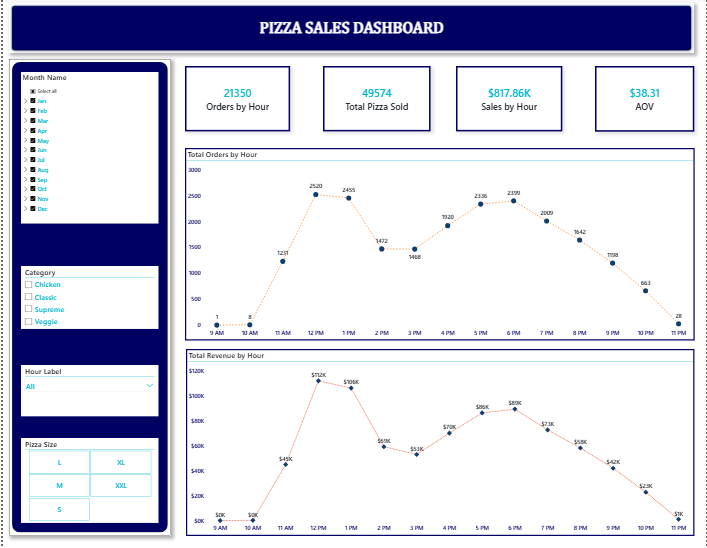

This screenshot's page, from the dashboard's own definition file:
{"tool":"powerbi","page":{"name":"Hourly Sales Analysis","canvas":[2300,1800],"ordinal":1},"visuals":[{"type":"shape","box":[20,200,530,1560],"z":0},{"type":"listSlicer","fields":{"Values":["Dim_Date.Month Name","Dim_Date.Date"]},"box":[60,242,450,496],"z":1000},{"type":"slicer","fields":{"Values":["Dimpizza_Details.Category"]},"box":[60,876,450,206],"z":2000},{"type":"slicer","fields":{"Values":["Dim_orders.Hour Label"]},"box":[60,1200,450,167.5],"z":3000},{"type":"cardVisual","fields":{"Data":["_Time Series Analysis.Orders in Hour"]},"box":[595,222.5,344,214],"z":4000},{"type":"cardVisual","fields":{"Data":["_Time Series Analysis.Sales by Hour"]},"box":[1482.5,222.5,348,214],"z":5000},{"type":"cardVisual","fields":{"Data":["_Measures.Total Pizza Sold"]},"box":[1047.5,222.5,352,214],"z":6000},{"type":"lineChart","title":"Total Orders by Hour","fields":{"Category":["Dim_orders.Hour Label"],"Y":["_Measures.Total Orders"]},"box":[595,490,1667.5,630],"z":7000},{"type":"slicer","fields":{"Values":["Dim_pizzas.Size"]},"box":[60,1440,450,278],"z":8000},{"type":"lineChart","title":"Total Revenue by Hour ","fields":{"Category":["Dim_orders.Hour Label"],"Y":["_Measures.Total Revenue"]},"box":[598,1148,1664,612],"z":9000},{"type":"shape","box":[20,15,2242.5,165],"z":10000},{"type":"cardVisual","fields":{"Data":["_Measures.AOV"]},"box":[1937.5,222.5,325,215],"z":11000}]}

Visuals, with their boxes in screenshot pixels (x1, y1, x2, y2), scaled from the page's 2300x1800 canvas onto the 707x548 screenshot:
shape: 6/61/169/536
listSlicer - Dim_Date.Month Name x Dim_Date.Date: 18/74/157/225
slicer - Dimpizza_Details.Category: 18/267/157/329
slicer - Dim_orders.Hour Label: 18/365/157/416
cardVisual - _Time Series Analysis.Orders in Hour: 183/68/289/133
cardVisual - _Time Series Analysis.Sales by Hour: 456/68/563/133
cardVisual - _Measures.Total Pizza Sold: 322/68/430/133
"Total Orders by Hour" lineChart: 183/149/695/341
slicer - Dim_pizzas.Size: 18/438/157/523
"Total Revenue by Hour " lineChart: 184/350/695/536
shape: 6/5/695/55
cardVisual - _Measures.AOV: 596/68/695/133
